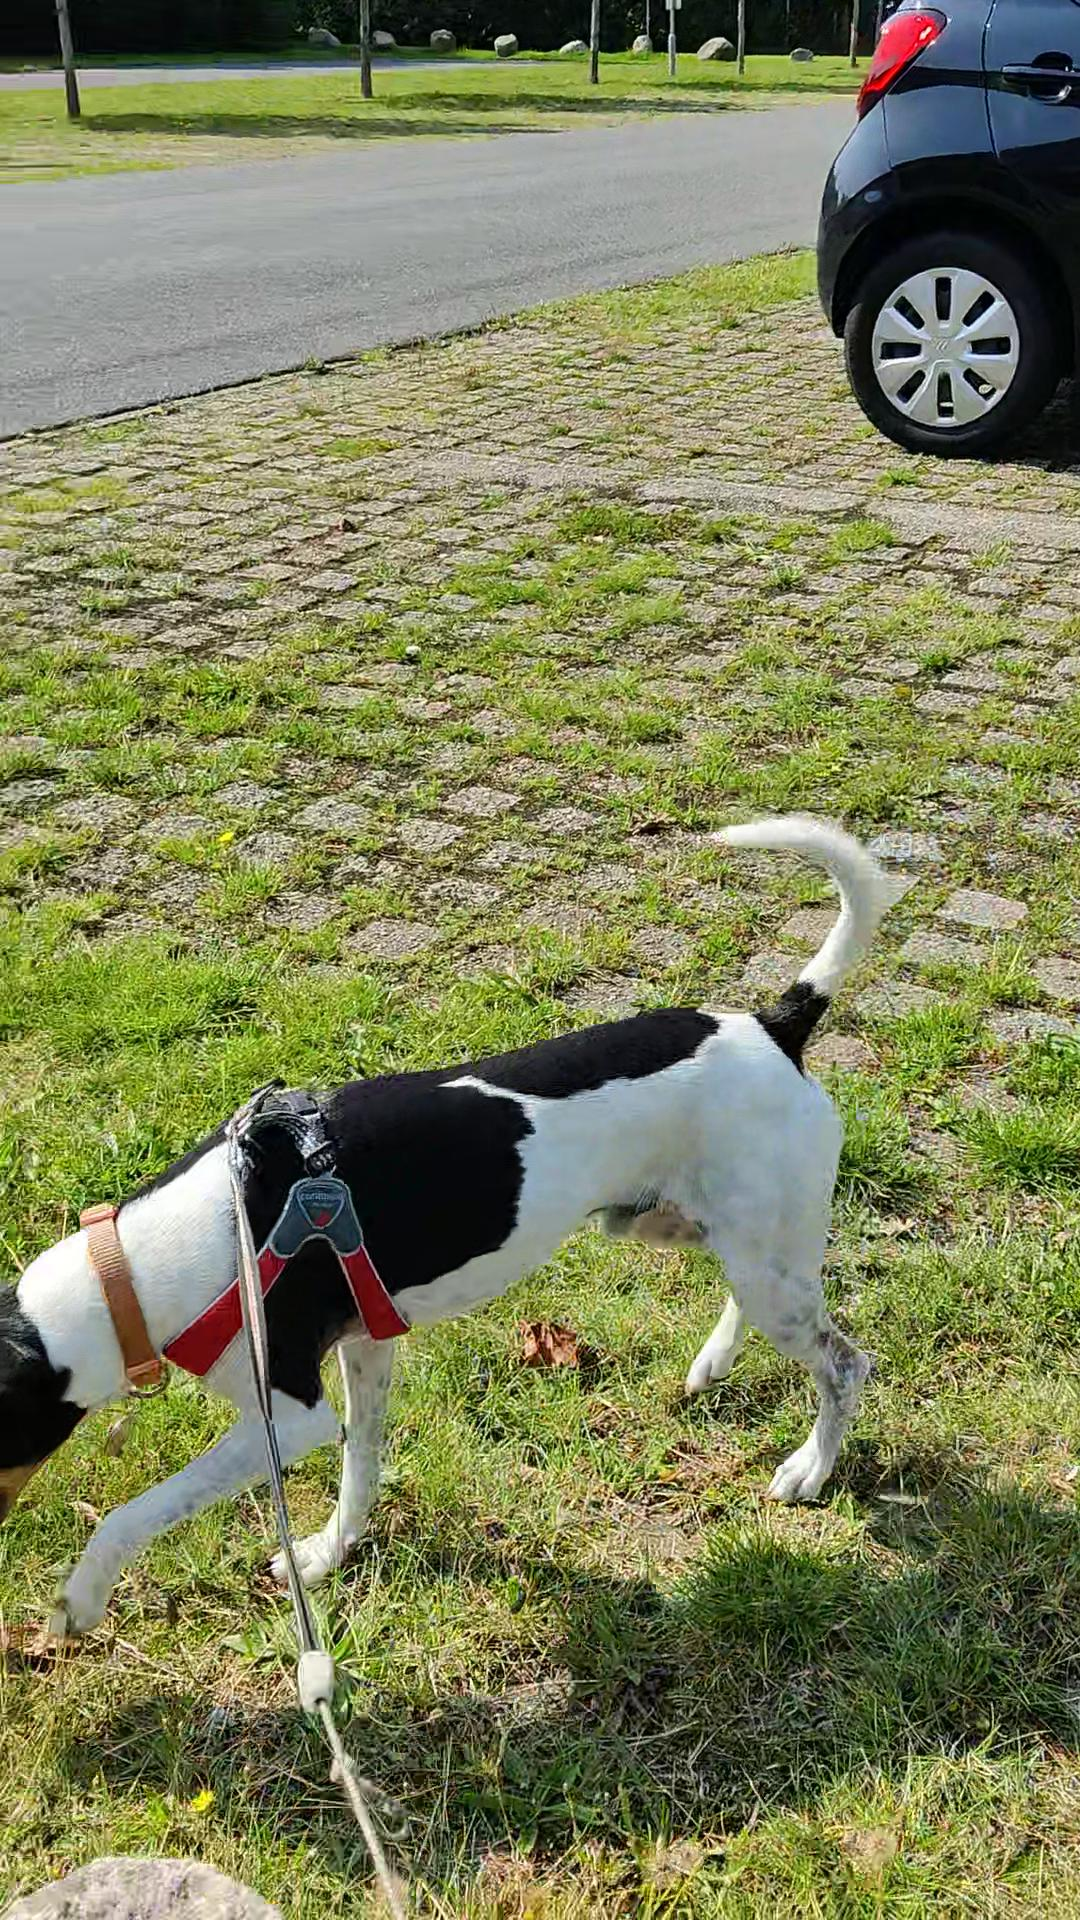Dog: (0, 791, 914, 1662)
